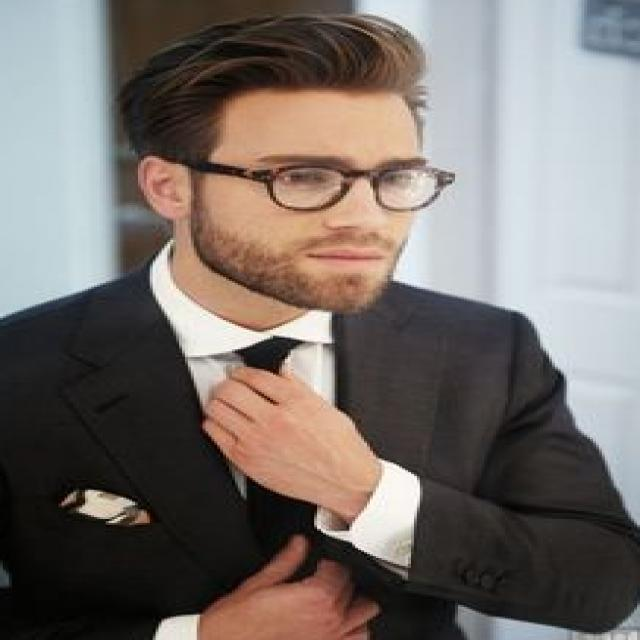Glasses: (196, 156, 458, 215)
